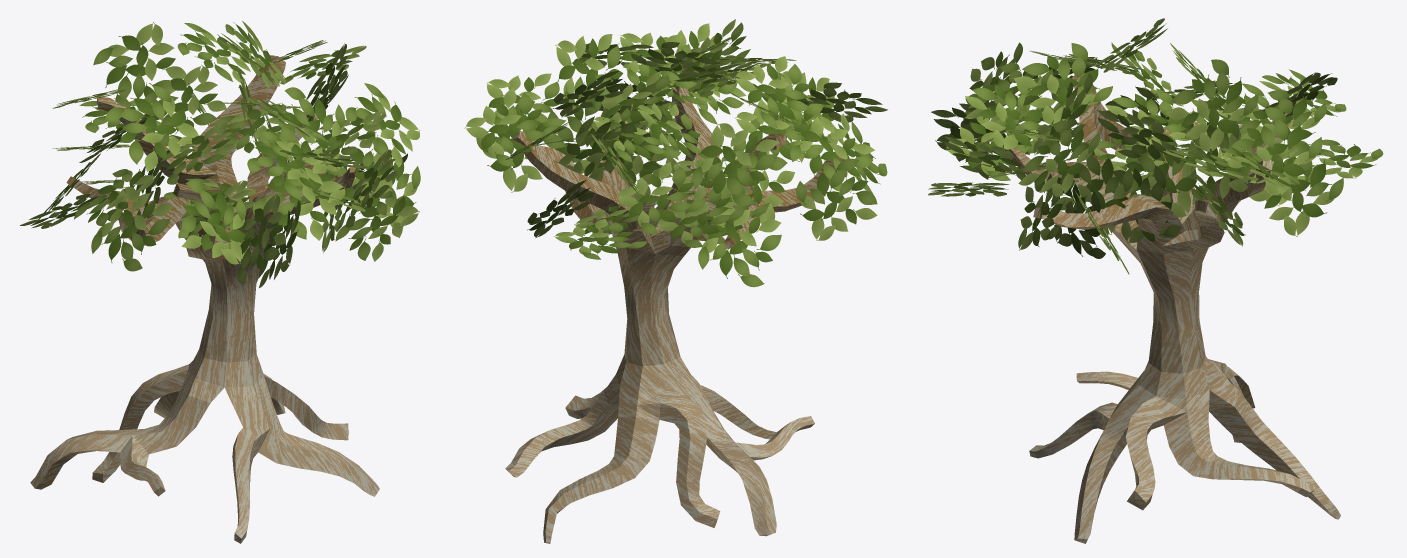
File: tree3.fbx
The picture shows the model from 3 angles, left to right: view 1: azimuth 30°, elevation 25°; view 2: azimuth 150°, elevation 25°; view 3: azimuth 270°, elevation 25°; orthographic projection. The views are drawn at different scales.
Visible parts, largest first — view 1: tree1; view 2: tree1; view 3: tree1.
Boxes of the visible parts, x1,y1,x2,y2 form: tree1: [20, 21, 420, 543]; tree1: [464, 19, 887, 543]; tree1: [928, 18, 1383, 543].
Bounding box in the file's own units: 16.57 × 18.53 × 17.08.
